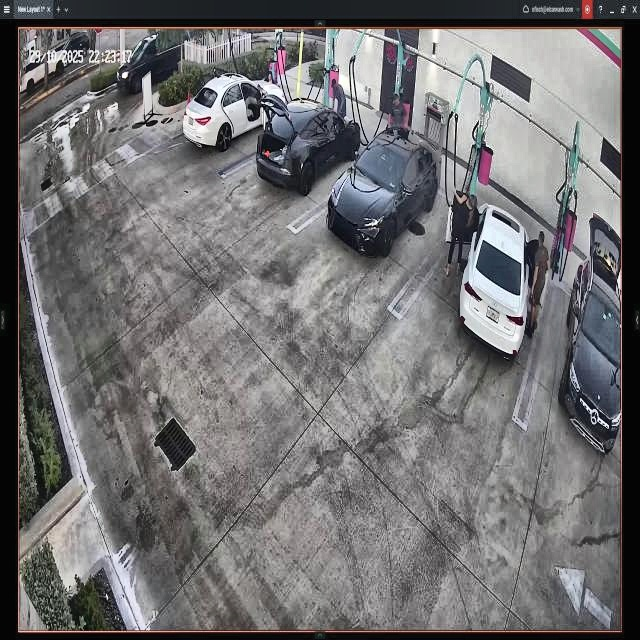Car: (449, 193, 544, 361), (328, 128, 440, 260), (255, 94, 360, 189), (185, 73, 285, 154)
